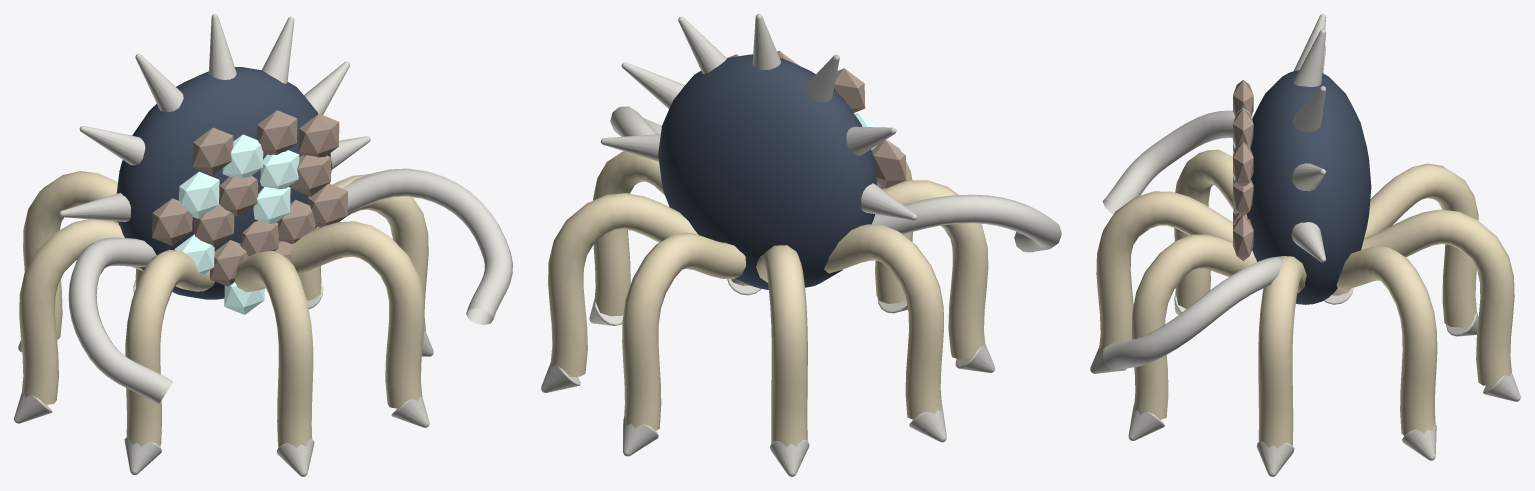
Rendered from bio_crown_stalker_04_near.glb.
3 renders of one model, left to right at view 1: azimuth 30°, elevation 25°; view 2: azimuth 150°, elevation 25°; view 3: azimuth 270°, elevation 25°, orthographic. The views are drawn at different scales.
Visible parts, largest first — view 1: Faceted crown substrate, Compound lens facet.001, Crooked support.006, Crown radiating blade, Crooked support.005, Crooked support.003, Scythe sensory limb.001, Compound lens facet, Crooked support.004, Scythe sensory limb, Crooked support.002, Crooked support.007 (+5 smaller); view 2: Faceted crown substrate, Crooked support.001, Crooked support, Crooked support.003, Crown radiating blade, Crooked support.002, Crooked support.004, Scythe sensory limb, Crooked support.007, Compound lens facet.001, Crooked support.005, Scythe sensory limb.001 (+5 smaller); view 3: Faceted crown substrate, Crooked support.001, Crooked support, Crooked support.005, Crooked support.006, Crooked support.002, Crooked support.007, Scythe sensory limb.001, Crown radiating blade, Scythe sensory limb, Crooked support.004, Compound lens facet.001 (+4 smaller).
Boxes of the visible parts, x1,y1,x2,y2 form: Faceted crown substrate: (116, 67, 331, 299); Compound lens facet.001: (152, 110, 347, 286); Crooked support.006: (290, 221, 424, 408); Crown radiating blade: (59, 14, 370, 221); Crooked support.005: (234, 251, 313, 448); Crooked support.003: (19, 219, 143, 404); Scythe sensory limb.001: (342, 168, 512, 324); Compound lens facet: (174, 134, 299, 314); Crooked support.004: (125, 249, 214, 446); Scythe sensory limb: (68, 237, 172, 404); Crooked support.002: (23, 171, 118, 340); Crooked support.007: (315, 174, 428, 331); Faceted crown substrate: (658, 54, 877, 289); Crooked support.001: (622, 232, 746, 430); Crooked support: (548, 193, 698, 376); Crooked support.003: (824, 224, 943, 419); Crown radiating blade: (600, 14, 917, 220); Crooked support.002: (756, 245, 807, 446); Crooked support.004: (882, 180, 988, 359); Scythe sensory limb: (872, 194, 1061, 252); Crooked support.007: (593, 151, 664, 316); Compound lens facet.001: (727, 50, 906, 188); Crooked support.005: (875, 139, 912, 303); Scythe sensory limb.001: (610, 106, 661, 136); Faceted crown substrate: (1246, 70, 1371, 304); Crooked support.001: (1361, 209, 1514, 385); Crooked support: (1336, 246, 1437, 435); Crooked support.005: (1096, 191, 1232, 349); Crooked support.006: (1132, 234, 1256, 419); Crooked support.002: (1364, 163, 1478, 327); Crooked support.007: (1258, 256, 1306, 448); Scythe sensory limb.001: (1102, 256, 1281, 370); Crown radiating blade: (1291, 14, 1326, 262); Scythe sensory limb: (1102, 110, 1253, 214); Crooked support.004: (1174, 149, 1234, 308); Compound lens facet.001: (1233, 80, 1253, 260).
Bounding box in the file's own units: 2.58 × 2.16 × 2.35.
